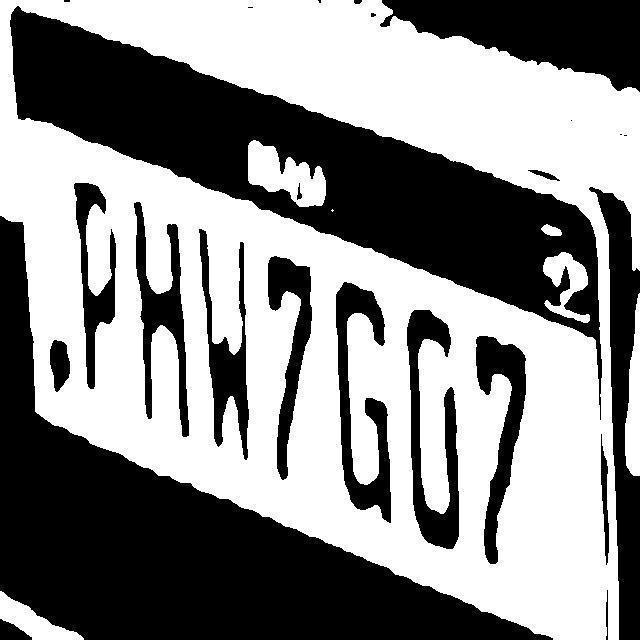0: (403, 298, 464, 556)
7: (462, 322, 538, 586), (259, 250, 321, 505)
g: (333, 271, 393, 547)
h: (128, 197, 196, 440)
p: (66, 178, 128, 406)
w: (204, 225, 258, 466)
